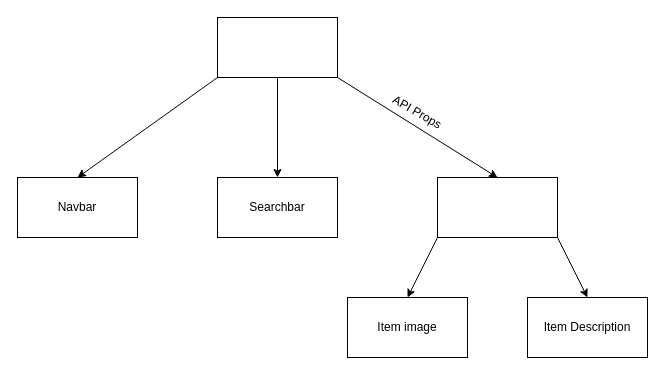
This 665x375 diagram has some shape labels left out. Here are the shapes that lost their labels. From the top down, the centre of each, then its label:
the point at 277,47: App
the point at 497,207: Cards
